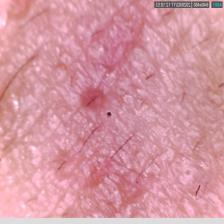Dry: (0, 10, 224, 213)
